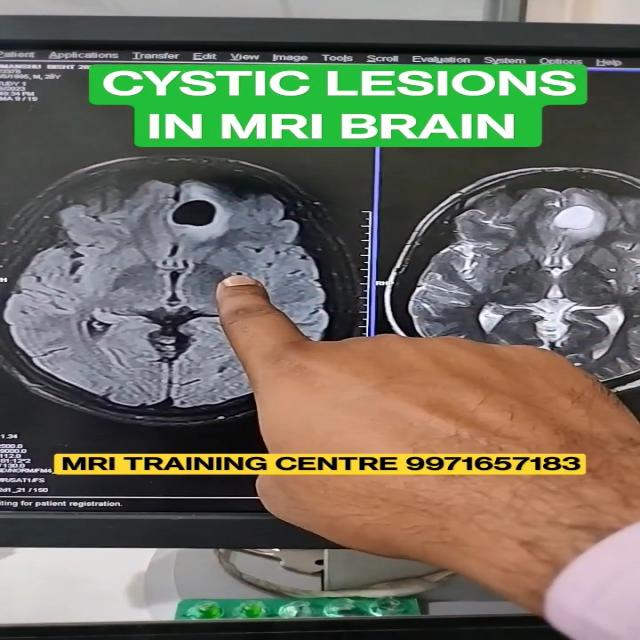tumor: (158, 180, 240, 248), (531, 205, 618, 252)
